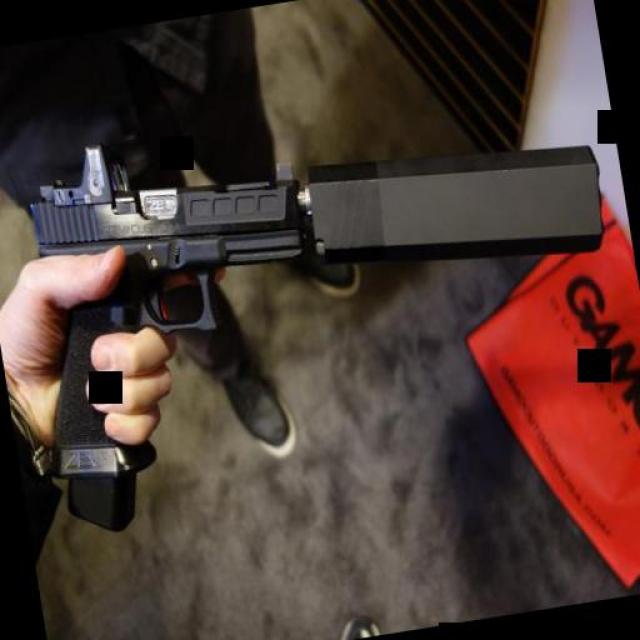gun: (0, 108, 349, 522)
